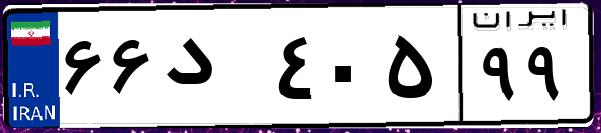0: (330, 28, 385, 110)
4: (270, 28, 330, 110)
5: (385, 28, 445, 110)
6: (57, 26, 110, 100), (110, 28, 158, 98)
9: (475, 38, 525, 113), (525, 38, 570, 115)
د: (158, 20, 270, 120)
